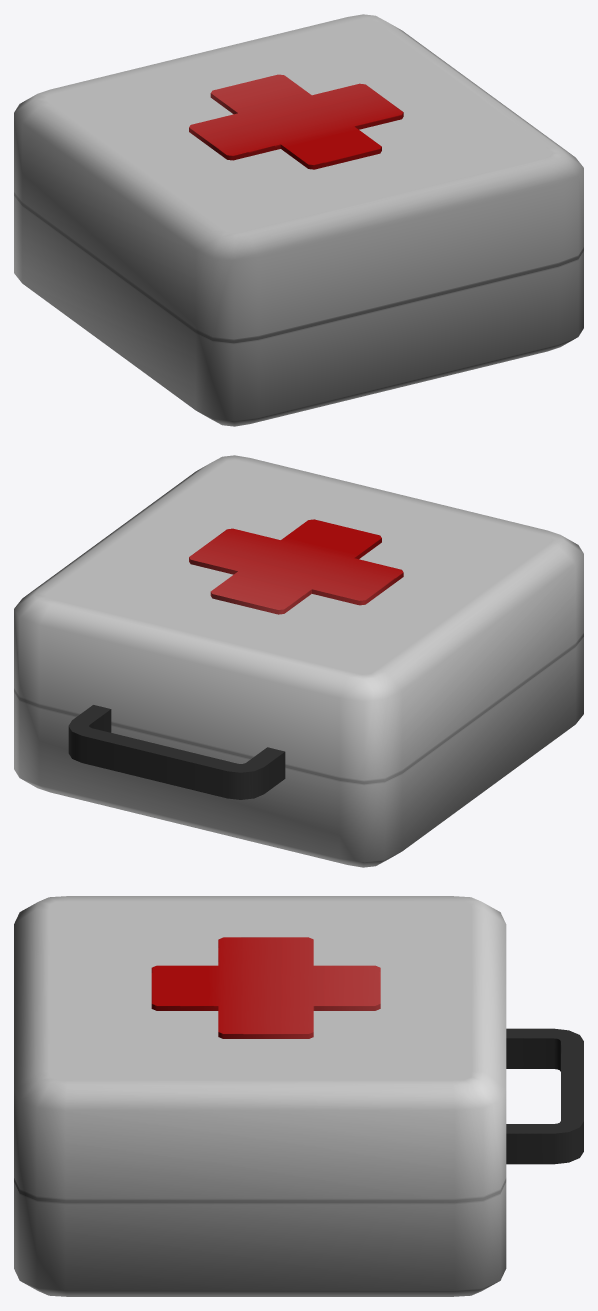
The model's file is AidBox.FBX.
The picture shows the model from 3 angles, top to bottom: view 1: azimuth 30°, elevation 25°; view 2: azimuth 150°, elevation 25°; view 3: azimuth 270°, elevation 25°; orthographic projection. The views are drawn at different scales.
Visible parts, largest first — view 1: AidBox; view 2: AidBox; view 3: AidBox.
Part boxes in pixels (x1,y1,x2,y2): AidBox: [14, 14, 583, 426]; AidBox: [14, 455, 583, 867]; AidBox: [14, 896, 583, 1296].
Bounding box in the file's own units: 30 × 14.55 × 34.74.
Materials: 1 (1 with a texture image).
